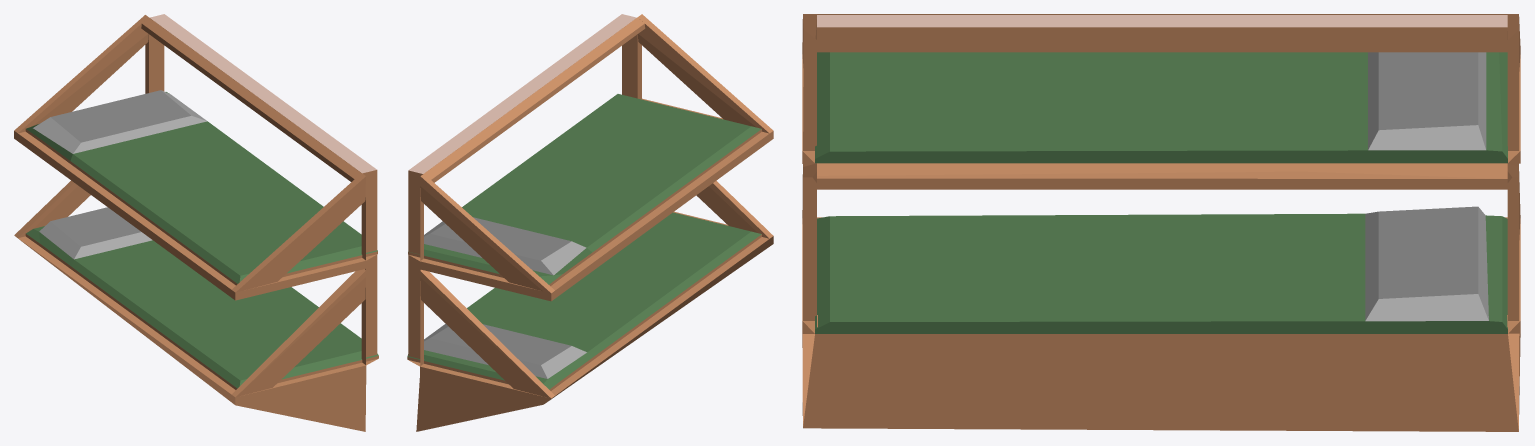
The model's file is kreveti.fbx.
The picture shows the model from 3 angles, left to right: view 1: azimuth 30°, elevation 25°; view 2: azimuth 150°, elevation 25°; view 3: azimuth 270°, elevation 25°; orthographic projection. The views are drawn at different scales.
Parts seen in each view (by area): view 1: Plane.005; view 2: Plane.005; view 3: Plane.005.
Boxes of the visible parts, x1=… form: Plane.005: x1=14, y1=14, x2=378, y2=431; Plane.005: x1=407, y1=14, x2=773, y2=431; Plane.005: x1=802, y1=14, x2=1520, y2=431.
Bounding box in the file's own units: 80.45 × 133 × 209.
